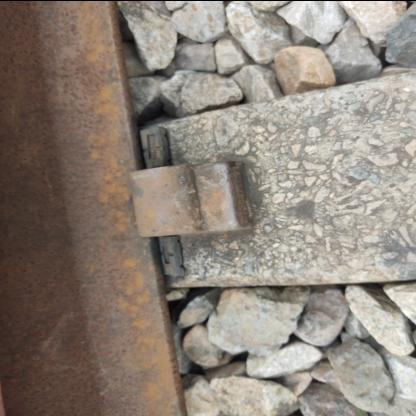Defective 1: (107, 96, 294, 262)
